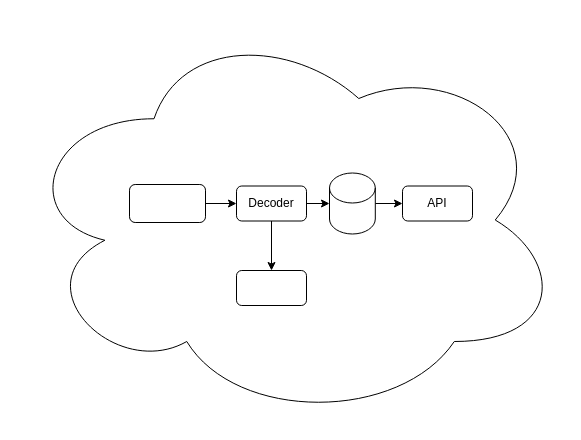
Some shapes in this 581 by 440 pixel diagram are drawn without their labels. Each missing label, with the box of its shape:
ChirpStack: (128, 184, 206, 222)
MQTT: (236, 270, 306, 306)
